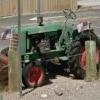Tractor: (7, 14, 100, 78)
